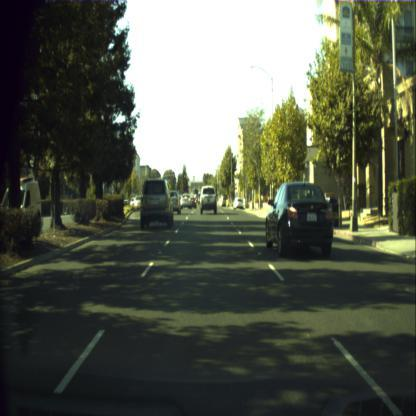Yellow: (184, 174, 186, 179), (193, 175, 194, 180)
